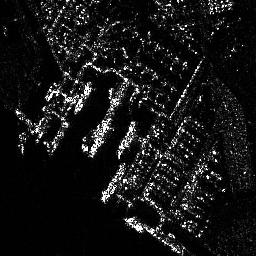ship: (89, 115, 113, 157), (102, 163, 126, 203), (117, 118, 135, 158), (74, 80, 94, 113), (49, 120, 67, 153), (124, 217, 144, 234)
